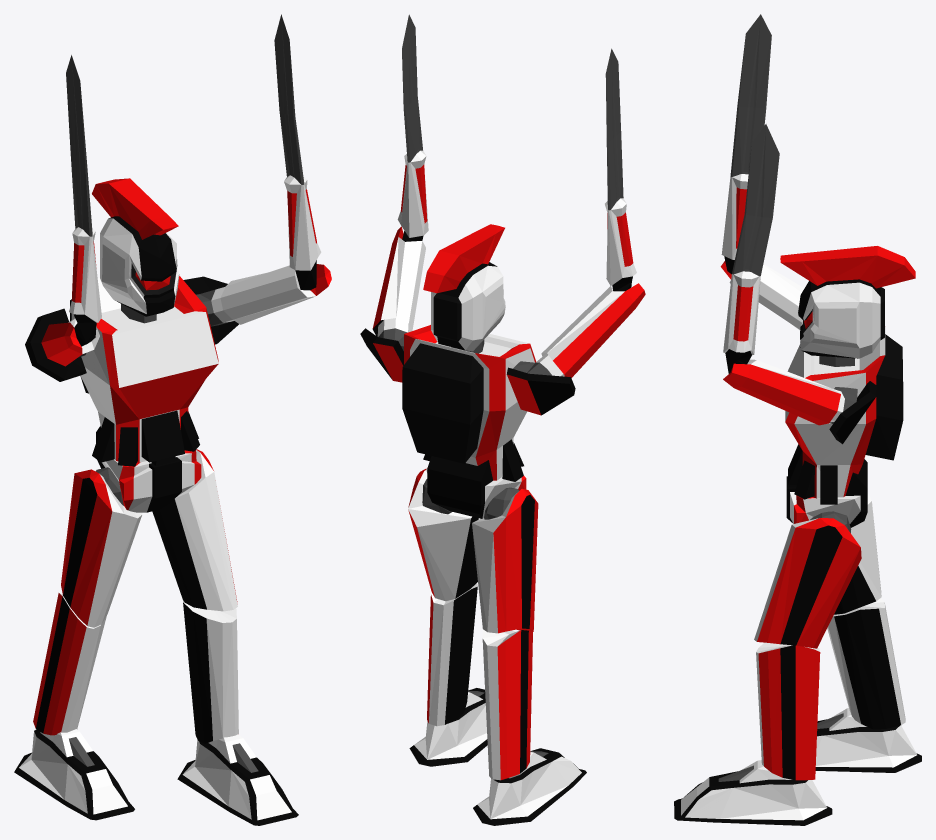
Rendered from robots_000009.obj.
The picture shows the model from 3 angles, left to right: view 1: azimuth 30°, elevation 25°; view 2: azimuth 150°, elevation 25°; view 3: azimuth 270°, elevation 25°; orthographic projection. The views are drawn at different scales.
Parts seen in each view (by area): view 1: Chest_plate_Cube.004, R_Forearm.002_Cube.033, Head_gladiator_Cube.024, R_Thigh_Cube.005, R_Thigh.002_Cube.027, R_Forearm.001_Cube.028, R_Shin.002_Cube.029, R_Foot_Cube, R_Foot.002_Cube.035, R_Shin_Cube.007, Pelvis_Cube.006, R_Arm.002_Cube.032 (+1 smaller); view 2: Chest_plate_Cube.004, R_Forearm.001_Cube.028, Head_gladiator_Cube.024, R_Thigh_Cube.005, R_Forearm.002_Cube.033, R_Shin_Cube.007, R_Shin.002_Cube.029, R_Thigh.002_Cube.027, R_Foot_Cube, Pelvis_Cube.006, R_Foot.002_Cube.035, R_Arm.002_Cube.032 (+2 smaller); view 3: R_Forearm.002_Cube.033, Chest_plate_Cube.004, Head_gladiator_Cube.024, R_Thigh.002_Cube.027, R_Shin.002_Cube.029, R_Forearm.001_Cube.028, R_Shin_Cube.007, R_Foot.002_Cube.035, R_Foot_Cube, R_Thigh_Cube.005, Pelvis_Cube.006, R_Arm.003_Cube.034.
Part boxes in pixels (x1=…): Chest_plate_Cube.004: x1=70, y1=276, x2=218, y2=466; R_Forearm.002_Cube.033: x1=220, y1=14, x2=331, y2=324; Head_gladiator_Cube.024: x1=92, y1=178, x2=179, y2=316; R_Thigh_Cube.005: x1=61, y1=469, x2=142, y2=627; R_Thigh.002_Cube.027: x1=152, y1=449, x2=237, y2=611; R_Forearm.001_Cube.028: x1=41, y1=55, x2=101, y2=366; R_Shin.002_Cube.029: x1=183, y1=600, x2=238, y2=743; R_Foot_Cube: x1=14, y1=729, x2=134, y2=820; R_Foot.002_Cube.035: x1=177, y1=734, x2=298, y2=825; R_Shin_Cube.007: x1=33, y1=593, x2=106, y2=735; Pelvis_Cube.006: x1=96, y1=426, x2=201, y2=512; R_Arm.002_Cube.032: x1=25, y1=308, x2=86, y2=381; Chest_plate_Cube.004: x1=402, y1=325, x2=536, y2=481; R_Forearm.001_Cube.028: x1=541, y1=48, x2=645, y2=377; Head_gladiator_Cube.024: x1=423, y1=224, x2=505, y2=351; R_Thigh_Cube.005: x1=472, y1=488, x2=538, y2=633; R_Forearm.002_Cube.033: x1=372, y1=14, x2=428, y2=336; R_Shin_Cube.007: x1=482, y1=629, x2=532, y2=780; R_Shin.002_Cube.029: x1=427, y1=583, x2=477, y2=726; R_Thigh.002_Cube.027: x1=408, y1=468, x2=478, y2=601; R_Foot_Cube: x1=473, y1=748, x2=586, y2=825; Pelvis_Cube.006: x1=426, y1=456, x2=526, y2=518; R_Foot.002_Cube.035: x1=409, y1=688, x2=487, y2=766; R_Arm.002_Cube.032: x1=506, y1=353, x2=575, y2=415; R_Forearm.002_Cube.033: x1=723, y1=124, x2=840, y2=425; Chest_plate_Cube.004: x1=785, y1=326, x2=903, y2=504; Head_gladiator_Cube.024: x1=780, y1=246, x2=915, y2=358; R_Thigh.002_Cube.027: x1=754, y1=518, x2=861, y2=648; R_Shin.002_Cube.029: x1=756, y1=642, x2=820, y2=780; R_Forearm.001_Cube.028: x1=720, y1=14, x2=804, y2=330; R_Shin_Cube.007: x1=827, y1=598, x2=905, y2=729; R_Foot.002_Cube.035: x1=674, y1=760, x2=832, y2=825; R_Foot_Cube: x1=815, y1=708, x2=921, y2=772; R_Thigh_Cube.005: x1=834, y1=493, x2=881, y2=614; Pelvis_Cube.006: x1=786, y1=459, x2=867, y2=527; R_Arm.003_Cube.034: x1=829, y1=381, x2=876, y2=444.
Size of the model in its own units: 1.51 by 4.27 by 1.32.
